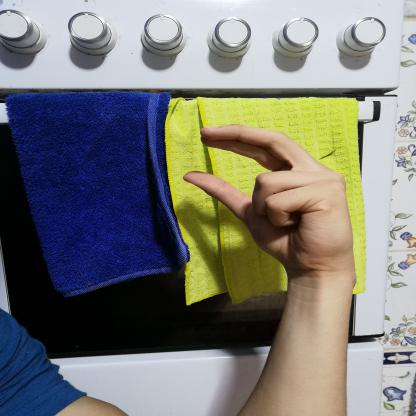DHELL: (175, 118, 366, 279)
